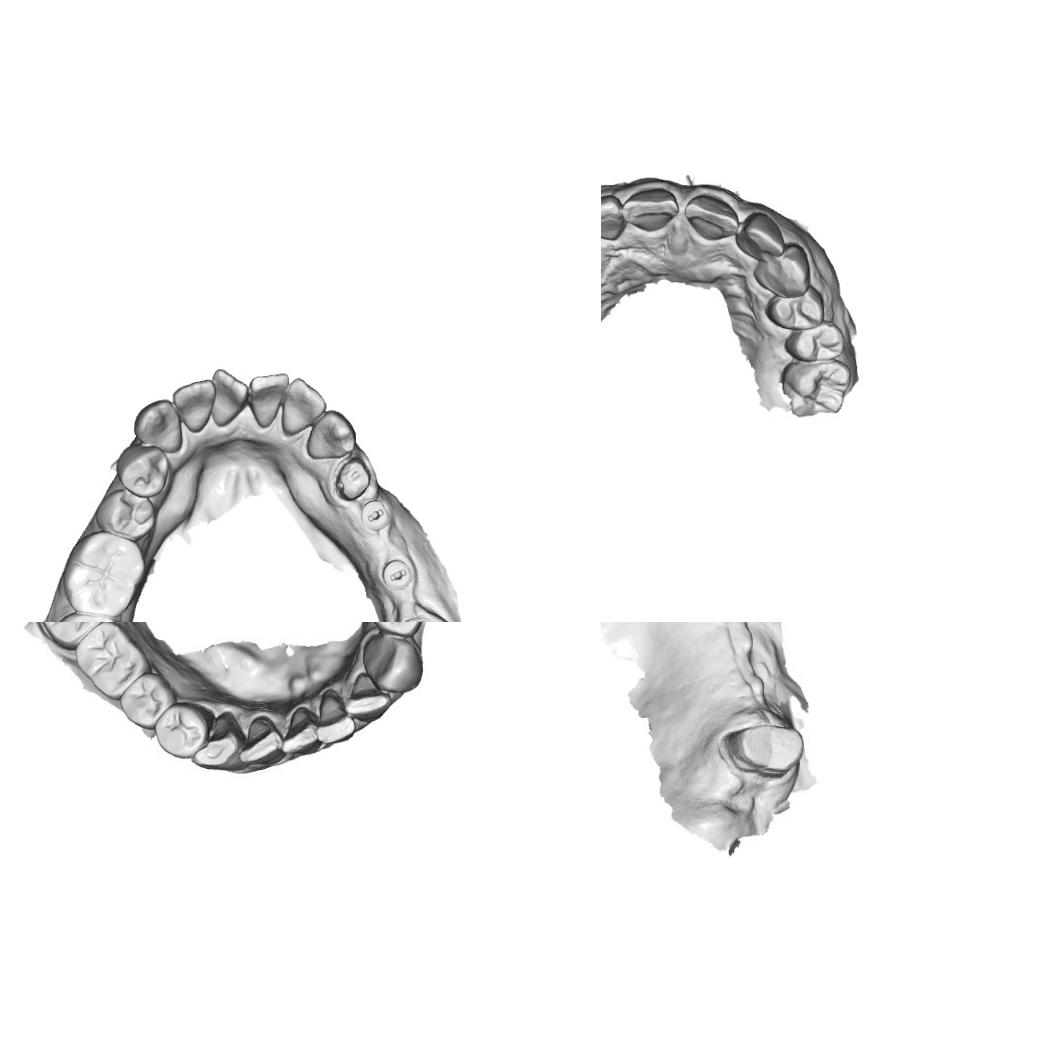canine: (361, 633, 424, 694), (189, 711, 248, 773), (752, 241, 812, 298), (132, 398, 187, 456), (304, 408, 359, 464)
crown: (733, 720, 805, 777), (328, 452, 380, 504)
implant_minus: (378, 556, 419, 594), (358, 496, 392, 534)
incisor: (278, 375, 329, 440), (170, 376, 220, 435), (620, 186, 680, 234), (733, 210, 786, 264), (683, 192, 740, 241), (246, 369, 290, 431), (208, 368, 250, 430), (343, 672, 392, 723), (238, 715, 286, 767), (314, 688, 356, 744), (281, 706, 322, 756), (601, 193, 627, 241)
molar: (59, 526, 148, 620), (73, 622, 154, 701), (778, 358, 852, 420), (35, 622, 114, 652)
premolar: (92, 486, 156, 542), (119, 671, 178, 731), (154, 700, 213, 760), (114, 442, 174, 499), (782, 318, 848, 364), (764, 284, 825, 330), (370, 622, 423, 637)
